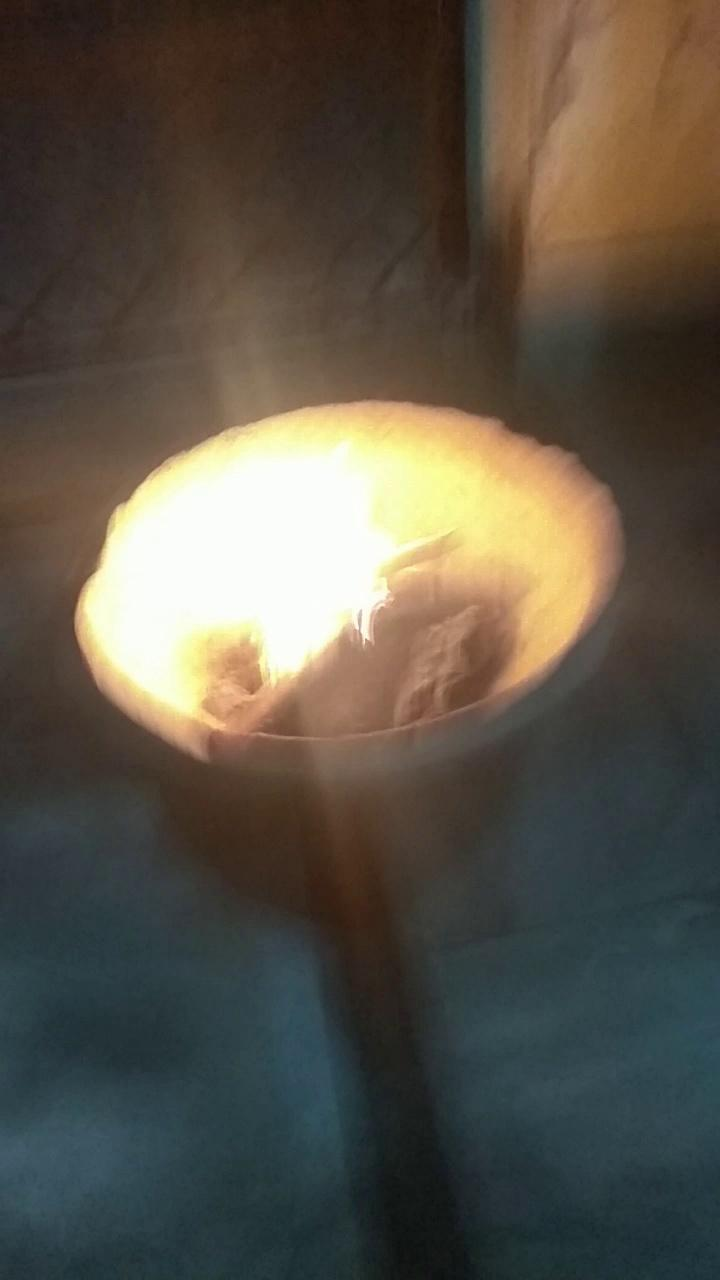fire: (122, 435, 428, 688)
